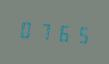five: (72, 21, 89, 47)
seven: (36, 18, 53, 43)
six: (54, 20, 71, 45)
zero: (18, 16, 35, 42)
